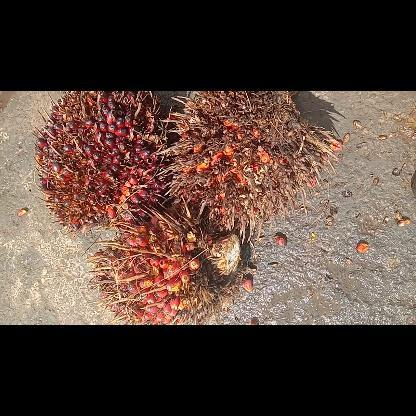TBS masak: (32, 90, 168, 232), (86, 204, 242, 324)
Terlalu masak: (156, 91, 338, 242)
